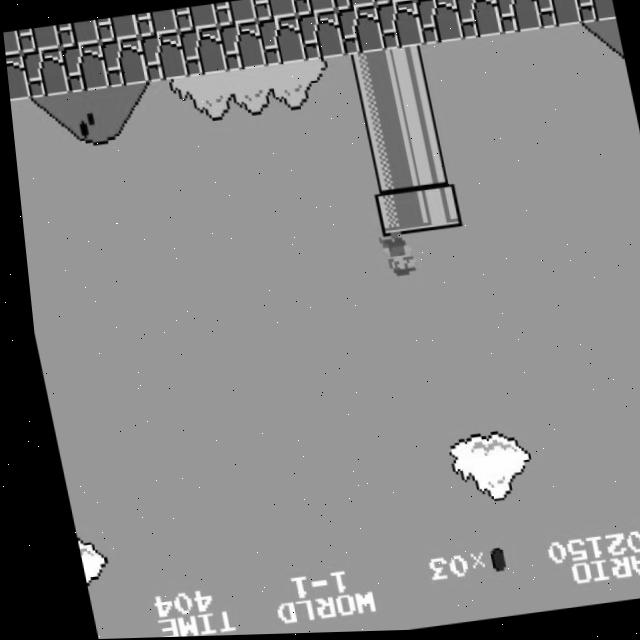11- little_mario: (367, 232, 419, 285)
14- pipe: (391, 92, 441, 143), (382, 47, 432, 98), (351, 97, 401, 148), (343, 52, 393, 103), (400, 138, 449, 188), (360, 143, 409, 193)
15- pipe_head: (408, 183, 458, 234), (368, 188, 418, 239)
17- undestructible_block: (18, 47, 69, 98), (373, 1, 423, 52), (334, 6, 384, 57), (295, 12, 345, 63), (255, 17, 305, 68), (216, 22, 266, 73), (177, 27, 227, 78), (137, 32, 187, 83), (98, 37, 148, 88), (58, 42, 108, 93), (413, 0, 463, 47), (453, 0, 503, 42), (492, 0, 542, 37), (532, 0, 582, 32), (93, 15, 139, 43), (212, 0, 257, 28), (173, 4, 218, 32), (133, 10, 178, 38), (54, 20, 99, 48), (15, 25, 60, 53), (4, 53, 29, 103), (572, 0, 615, 27), (252, 0, 297, 23), (291, 0, 336, 17), (331, 0, 376, 12), (2, 30, 21, 57), (370, 0, 414, 6), (410, 0, 454, 1)
